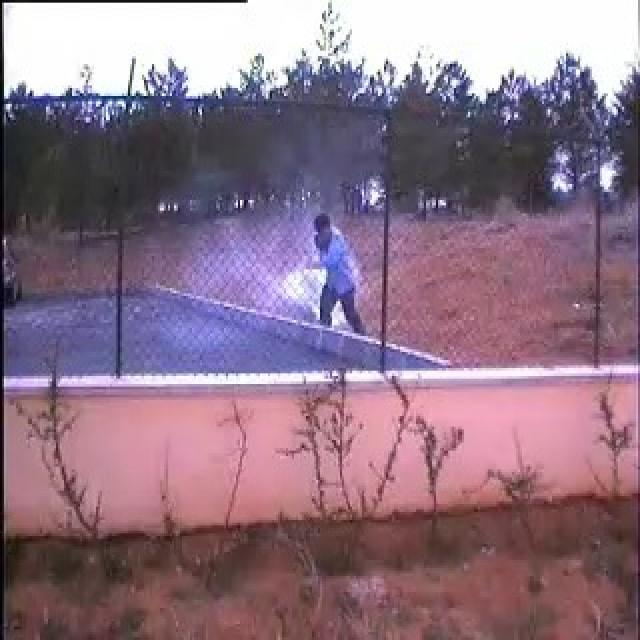smoke: (210, 252, 326, 331)
